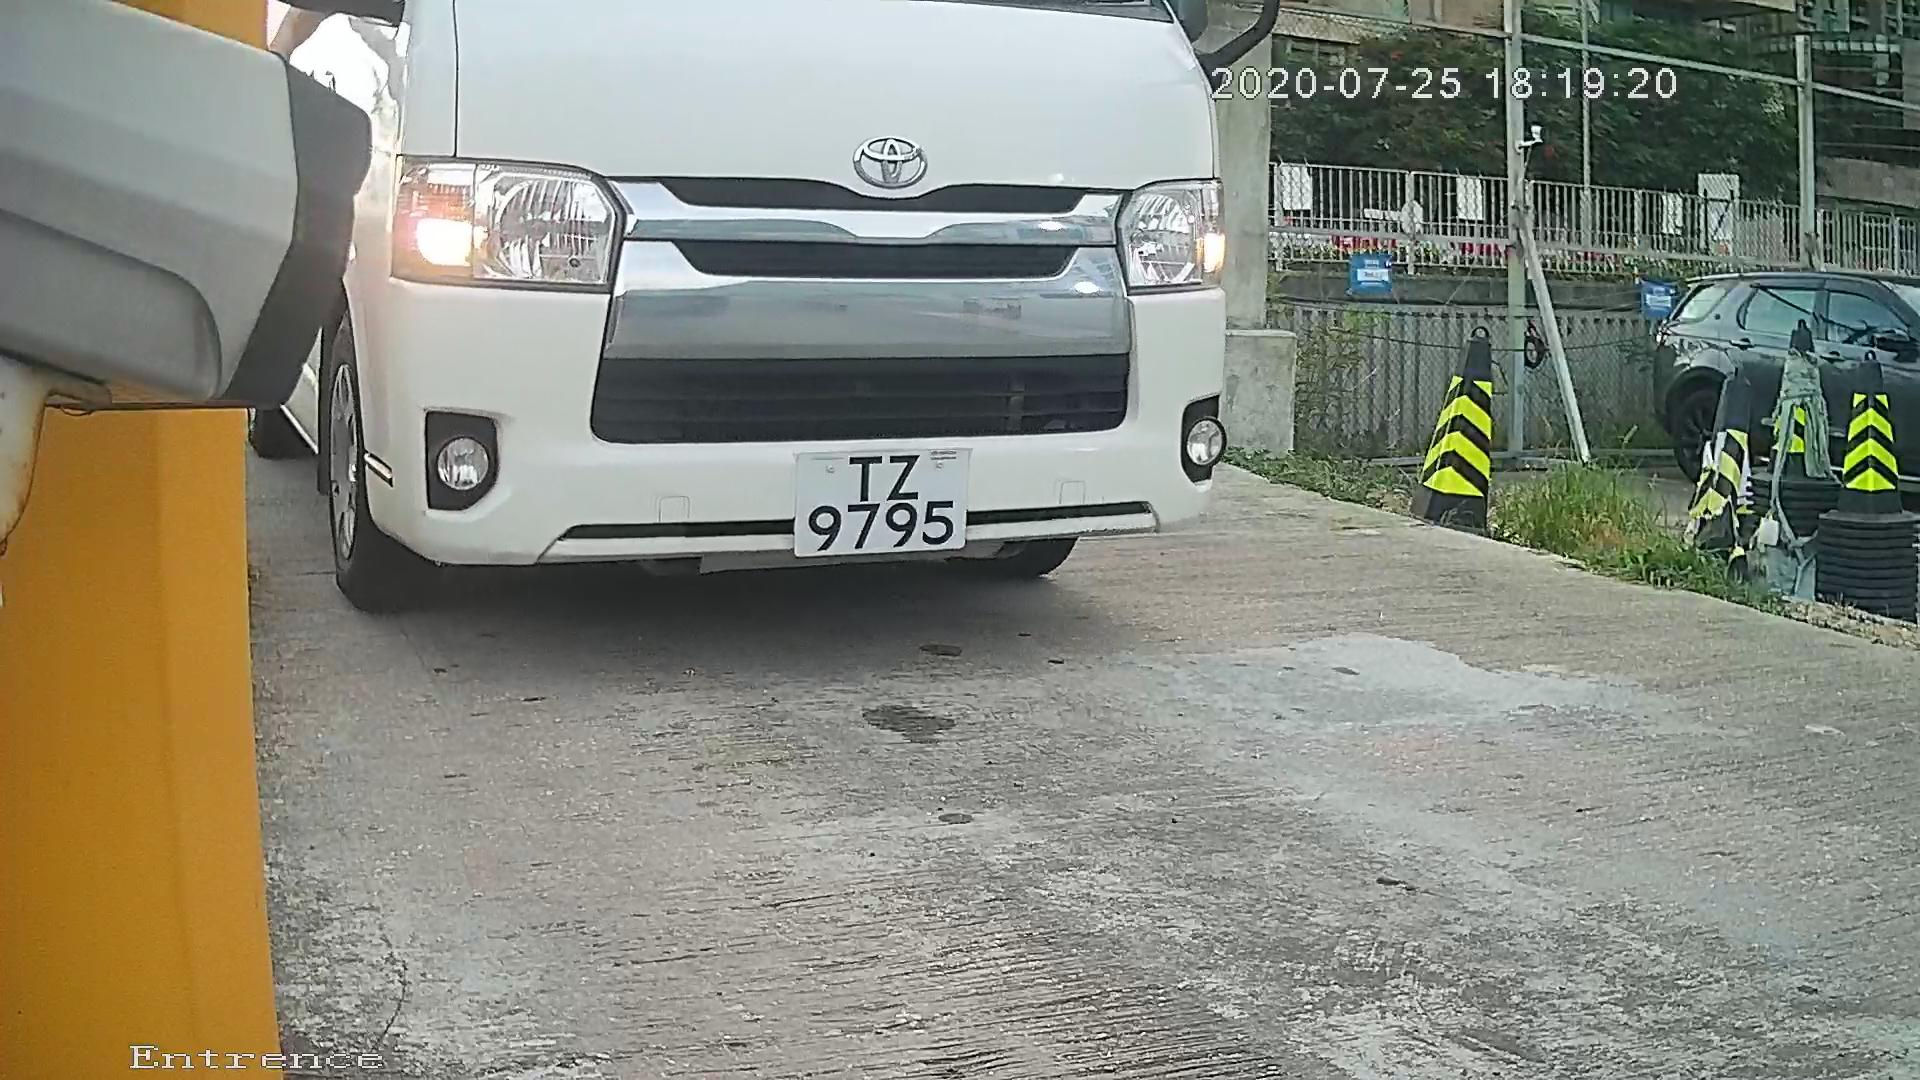Car: (138, 1, 1346, 676)
License Plate: (772, 454, 995, 569)
